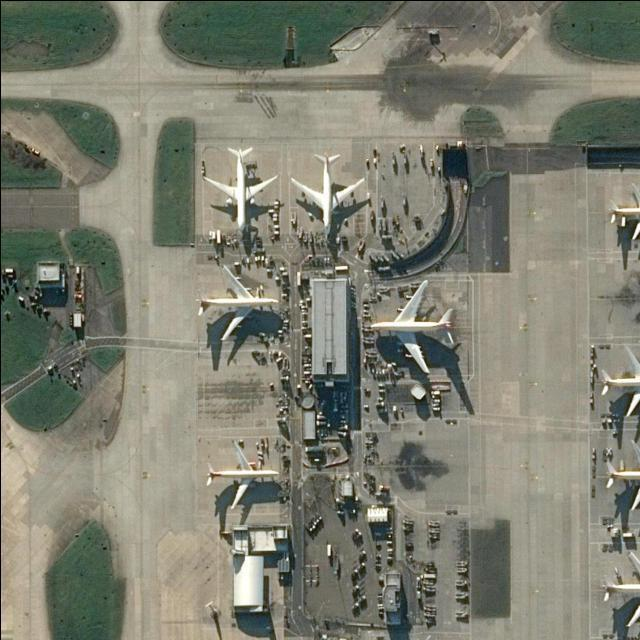Aircraft: (368, 281, 455, 376), (370, 280, 457, 374), (196, 263, 281, 341), (196, 264, 280, 341), (203, 146, 278, 232), (204, 146, 277, 233), (290, 152, 366, 232), (289, 154, 364, 231), (205, 441, 281, 510), (206, 442, 280, 510), (599, 344, 640, 419), (601, 552, 640, 628), (599, 345, 640, 417), (604, 549, 640, 629), (603, 438, 640, 511), (604, 439, 640, 512), (609, 184, 640, 242), (610, 186, 640, 244)
